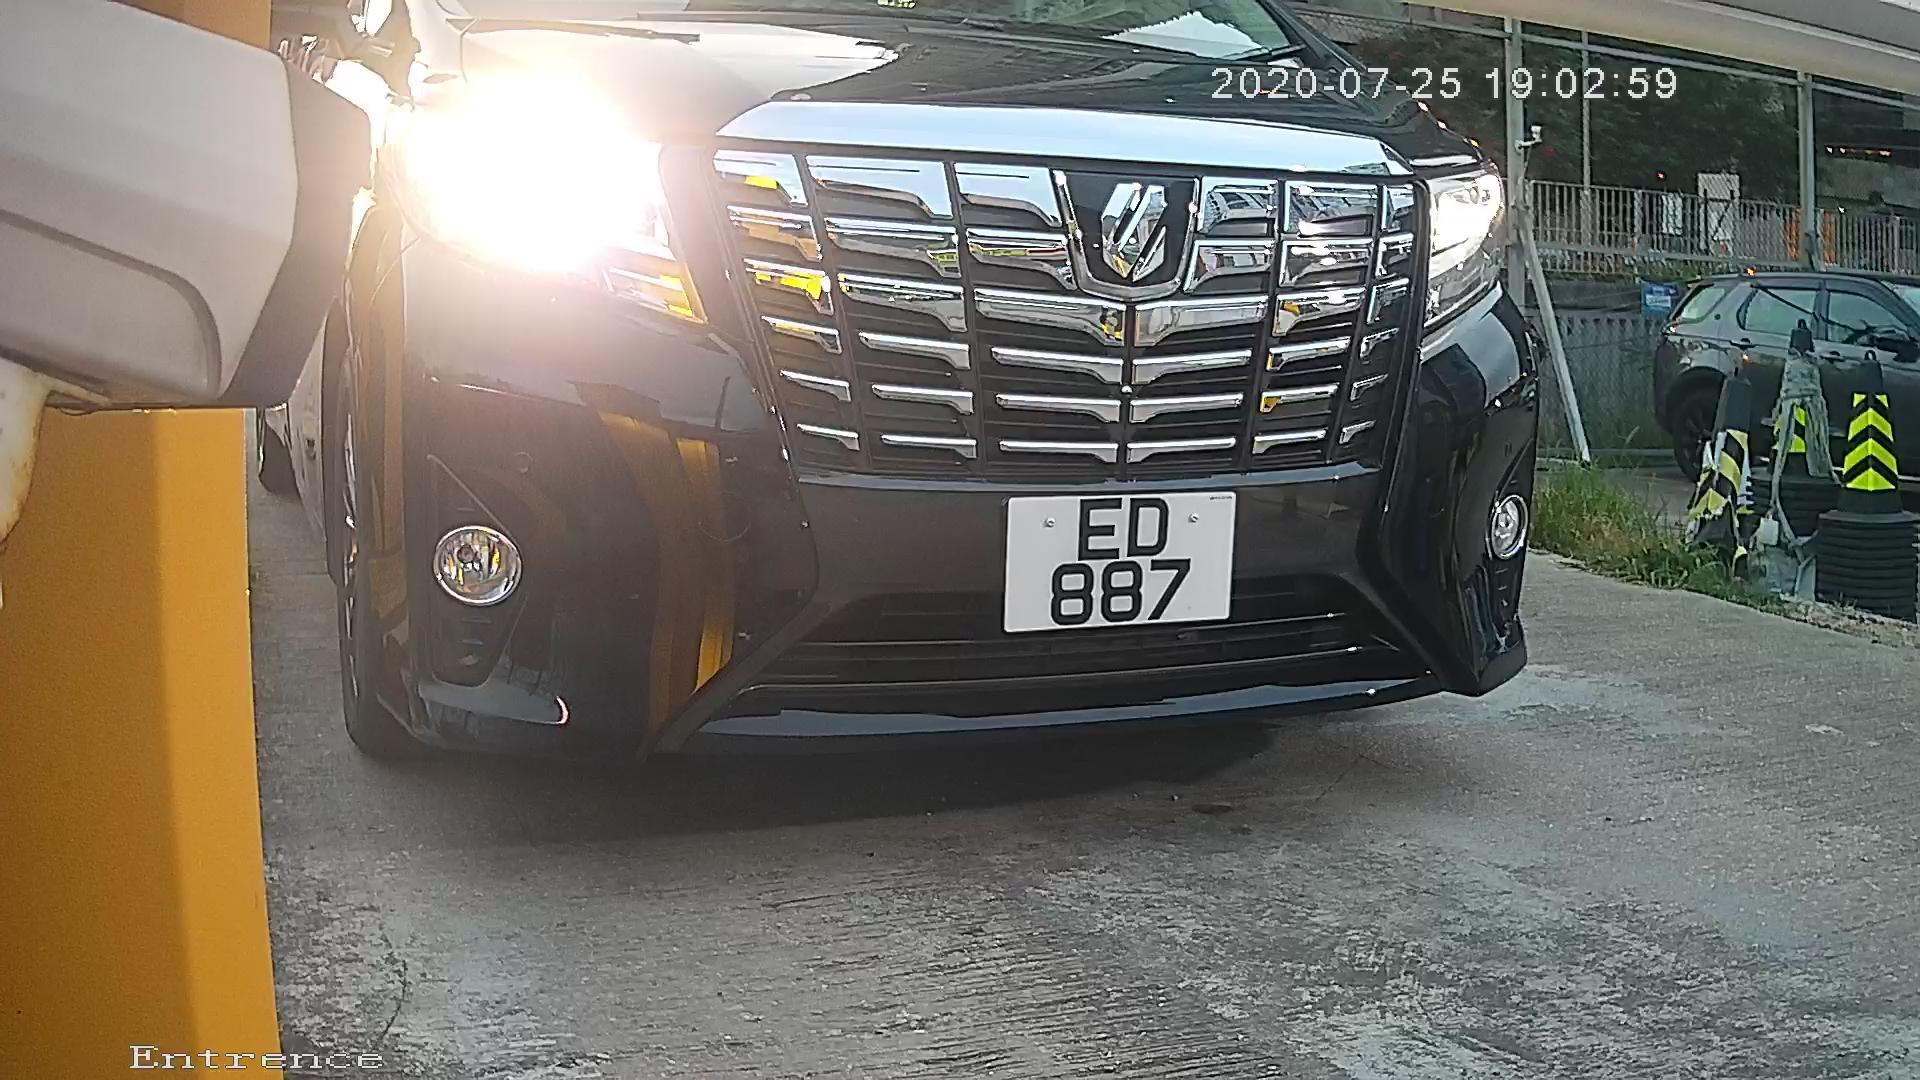privatecar: (284, 11, 1604, 800)
